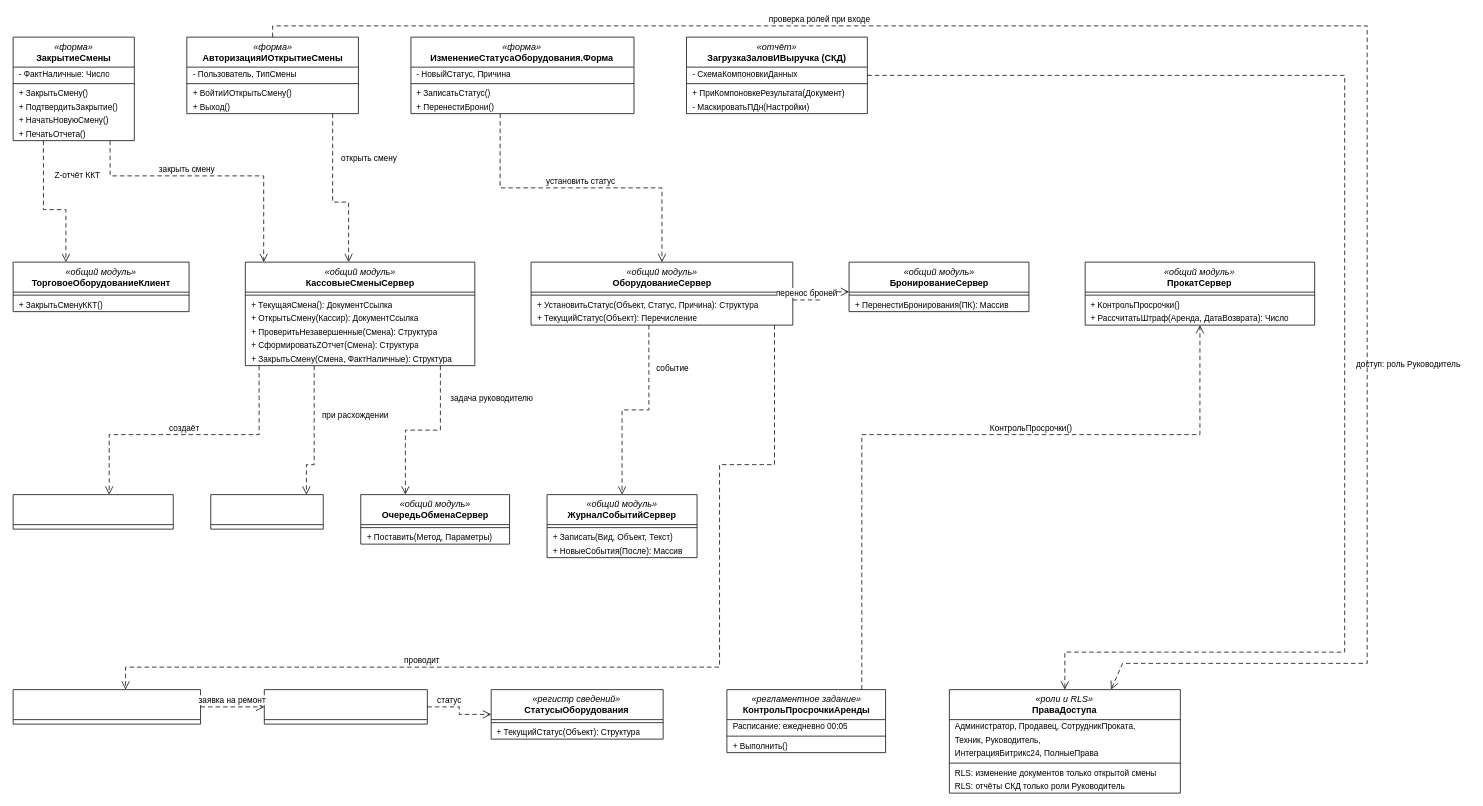
The diagram is 1483 pixels wide and 806 high, and some of its shapes have lost their labels. Here are the shapes that lost their labels. From the top down, the centre of each, then its label:
At point (92, 511): "«документ» ОтчетОРозничныхПродажах".
At point (266, 511): "«документ» АктРасхождения".
At point (106, 706): "«документ» ИзменениеСтатусаОборудования".
At point (345, 706): "«документ» ОбслуживаниеОборудования".
